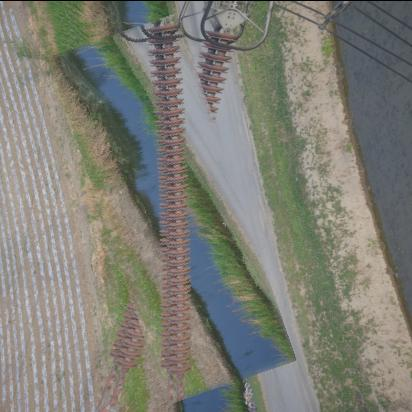insulator: (76, 19, 269, 399)
